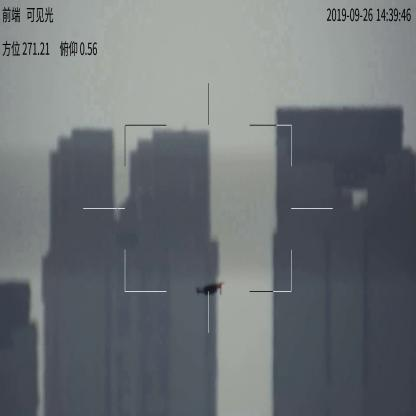uav: (186, 279, 223, 298)
